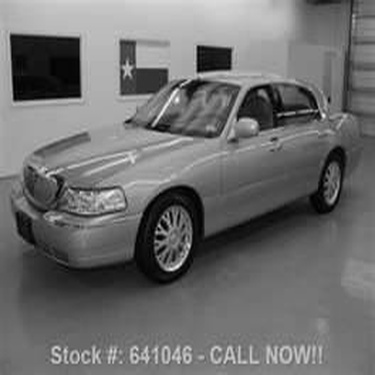car: (15, 55, 356, 273)
